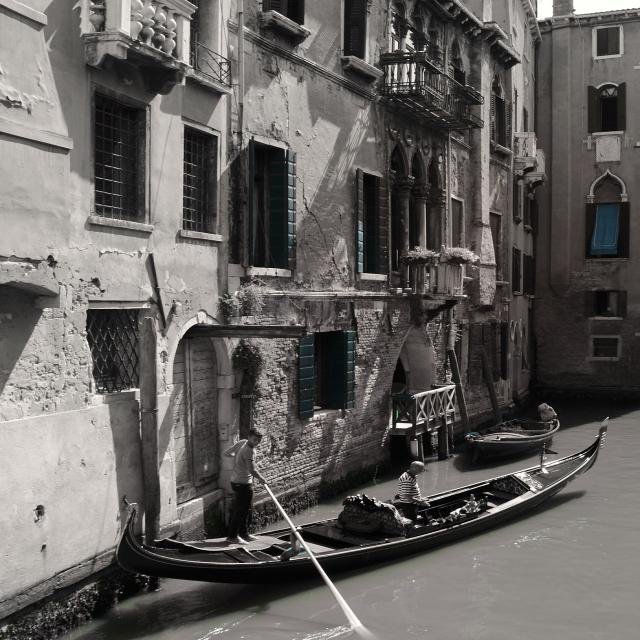boat: (115, 420, 630, 596)
